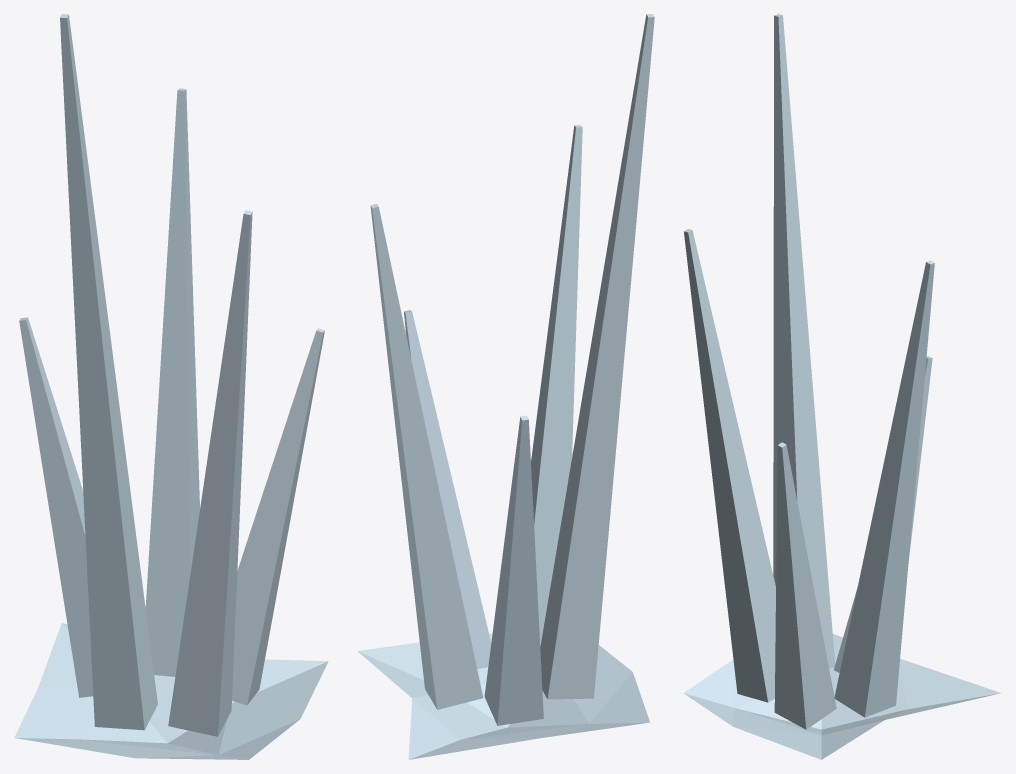
Rendered from ice_shard_v23.glb.
The picture shows the model from 3 angles, left to right: view 1: azimuth 30°, elevation 25°; view 2: azimuth 150°, elevation 25°; view 3: azimuth 270°, elevation 25°; orthographic projection. The views are drawn at different scales.
Visible parts, largest first — view 1: lod0; view 2: lod0; view 3: lod0.
Part boxes in pixels (bbox=[...]): lod0: bbox=[14, 14, 328, 759]; lod0: bbox=[357, 14, 654, 759]; lod0: bbox=[683, 14, 1001, 759].
Size of what is drawn, in the model's own units: 0.6948 by 1.64 by 0.7166.
